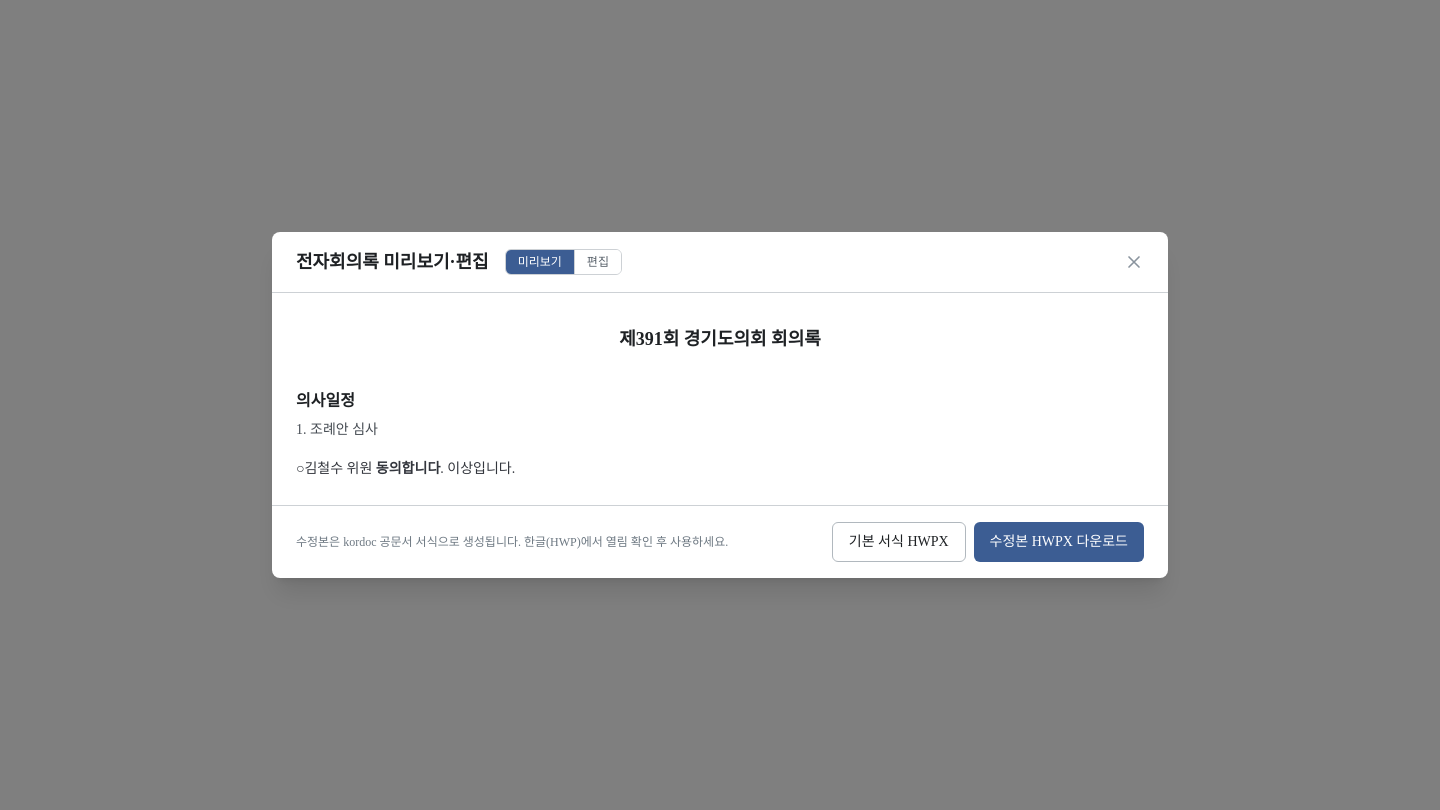
Scenario: MinutesPreviewModal › 편집 토글 시 전체 마크다운 textarea 가 보이고, 수정이 미리보기에 반영된다
Expected: the element with test id "markdown-preview" is shown, x1=296 y1=329 x2=821 y2=476
// 편집 모드 → textarea 에 전체 마크다운
Click the button with test id "mode-edit-button" at (597, 262), box x1=574 y1=250 x2=621 y2=274
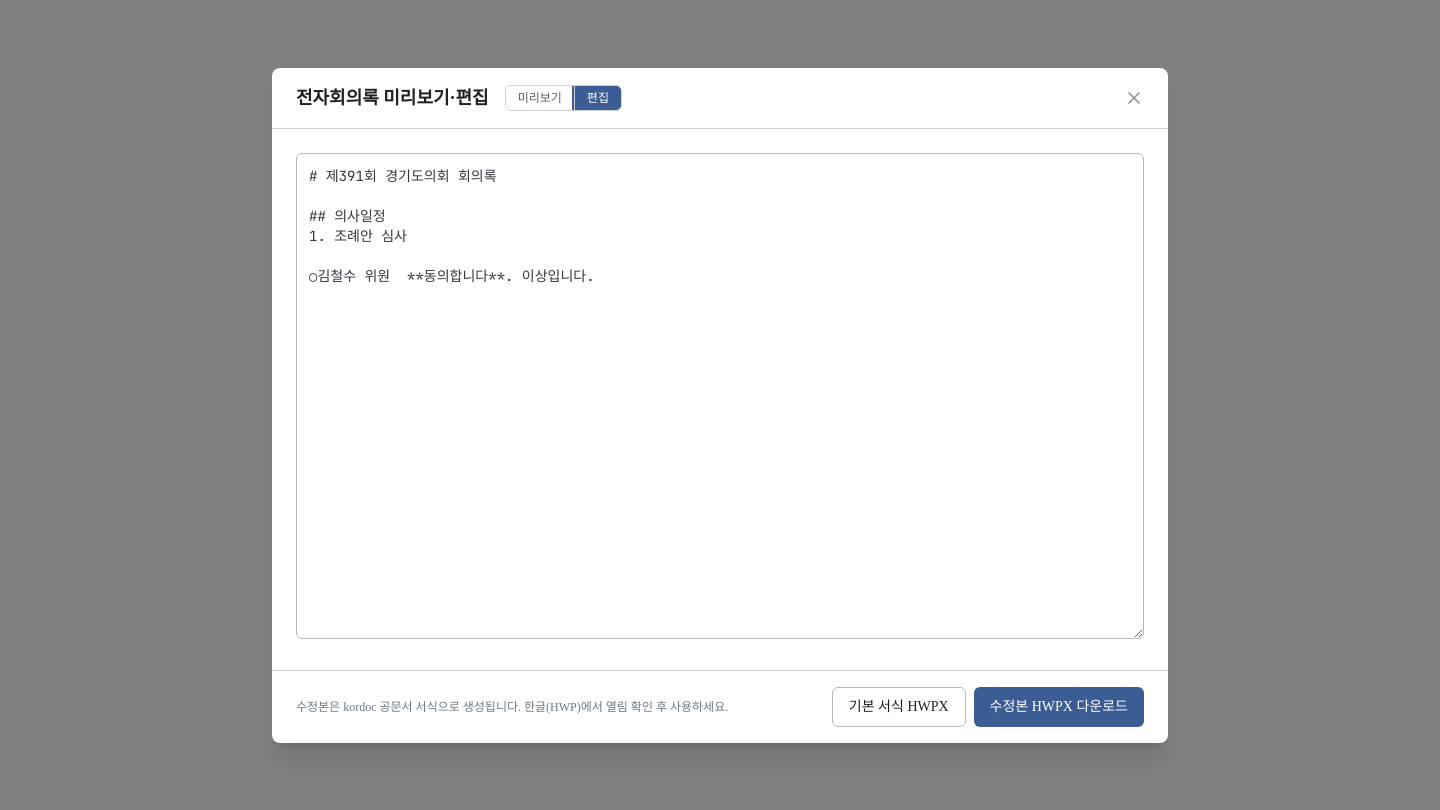
// 수정 후 미리보기로 돌아오면 반영
Replace the text in the text box with test id "markdown-editor" with "# 수정된 회의록" at (720, 396), box x1=296 y1=152 x2=1144 y2=638
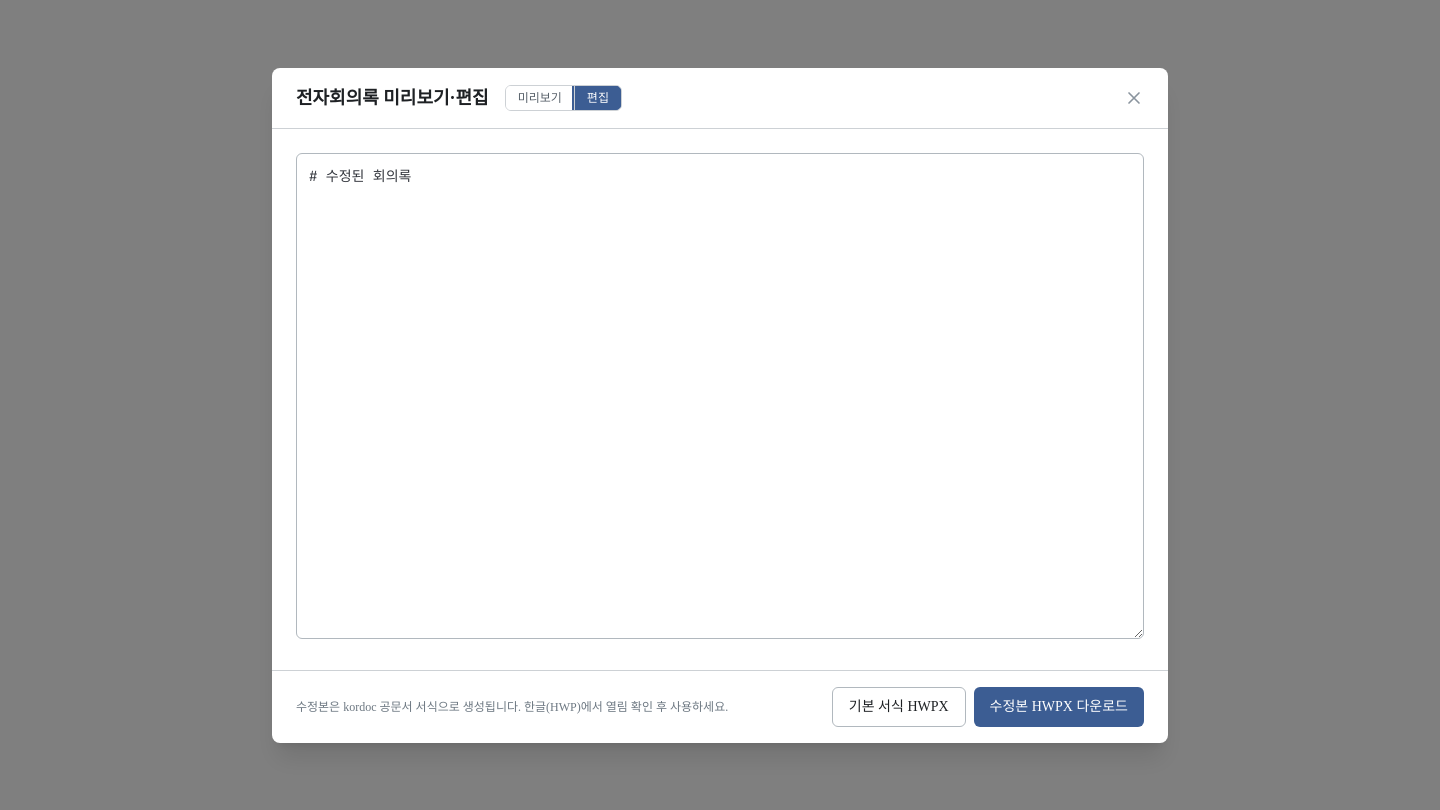
Click the button with test id "mode-preview-button" at (540, 98), box x1=506 y1=86 x2=574 y2=110
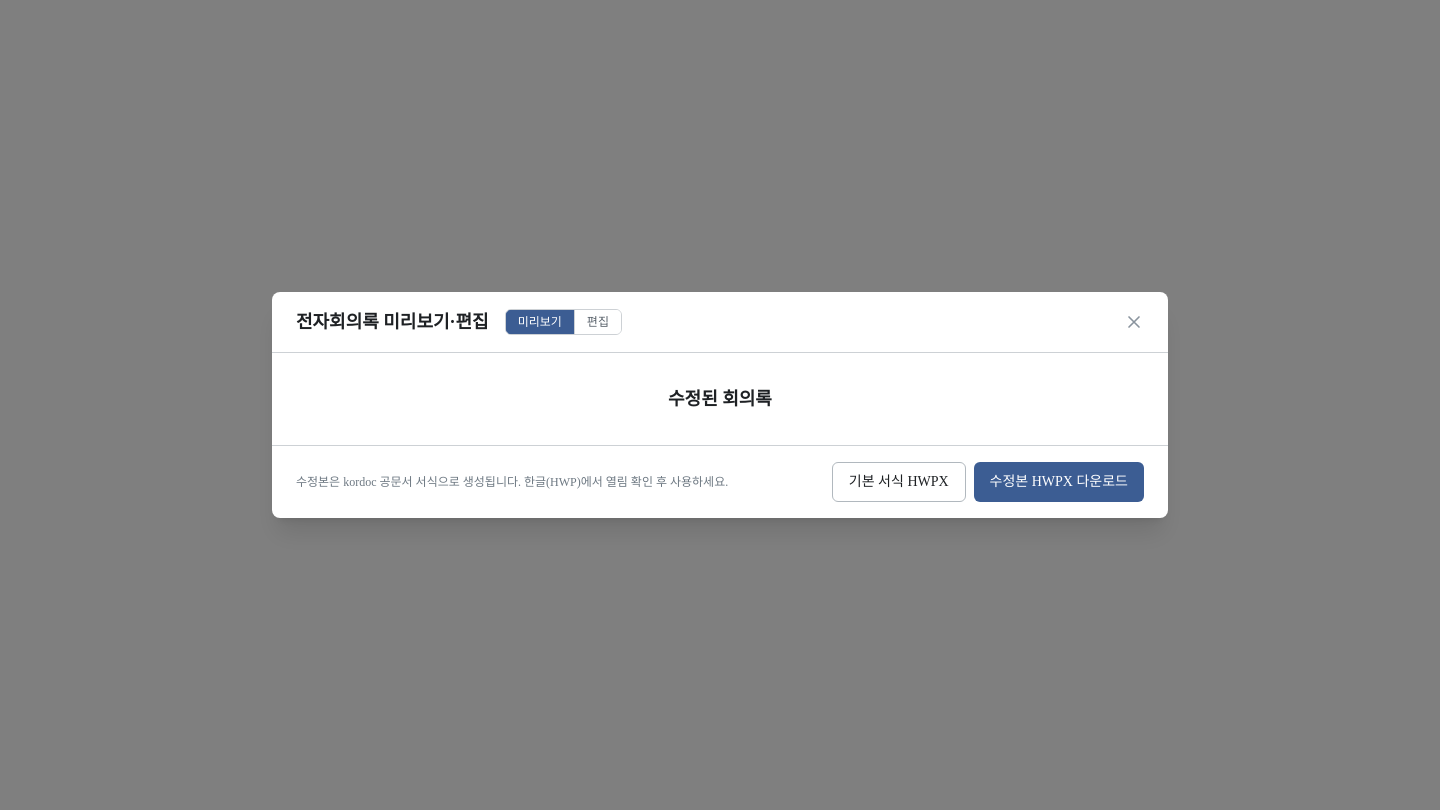
Now the heading "수정된 회의록" is shown, box x1=668 y1=389 x2=772 y2=409
